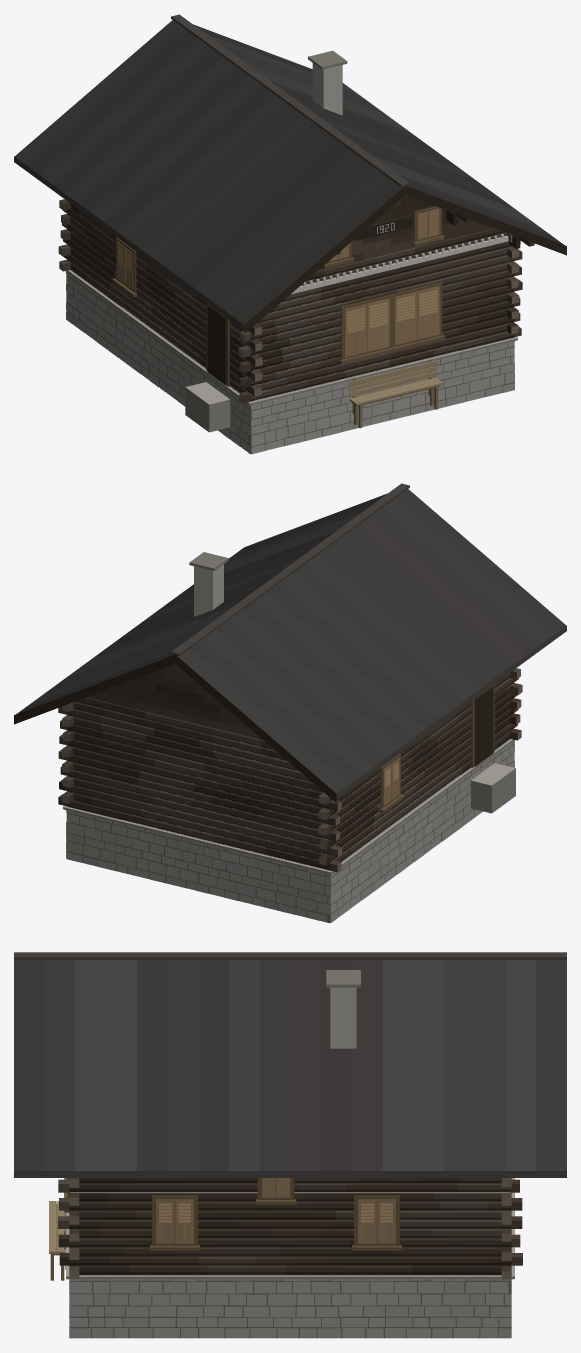
The model's file is chalet.glb.
The picture shows the model from 3 angles, top to bottom: view 1: azimuth 30°, elevation 25°; view 2: azimuth 150°, elevation 25°; view 3: azimuth 270°, elevation 25°; orthographic projection. The views are drawn at different scales.
Parts seen in each view (by area): view 1: chalet; view 2: chalet; view 3: chalet.
Part boxes in pixels (bbox=[...]): chalet: bbox=[14, 14, 566, 454]; chalet: bbox=[14, 483, 566, 923]; chalet: bbox=[14, 952, 566, 1338].
Bounding box in the file's own units: 9.3 × 7.31 × 11.5.
